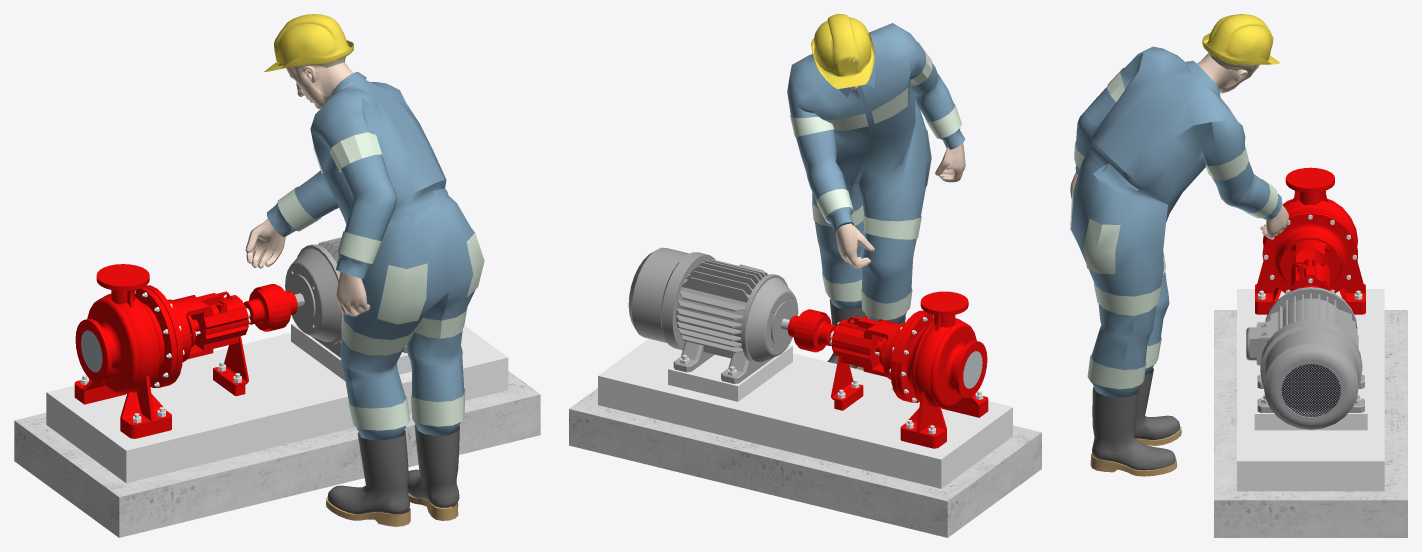
The model's file is centrifugal_pump_-_horizontal_end_suction.glb.
The picture shows the model from 3 angles, left to right: view 1: azimuth 30°, elevation 25°; view 2: azimuth 150°, elevation 25°; view 3: azimuth 270°, elevation 25°; orthographic projection. The views are drawn at different scales.
Parts seen in each view (by area): view 1: Material2 (×11), Material3; view 2: Material2 (×10), Material3; view 3: Material2 (×11).
Part boxes in pixels (x1,y1,x2,y2): Material2 (×11): (14,14,540,537); Material3: (80,289,250,423); Material2 (×10): (569,14,1041,537); Material3: (830,314,983,434); Material2 (×11): (1070,14,1407,537).
Bounding box in the file's own units: 63.97 × 66.84 × 48.02.
19 materials, 4 textured.
